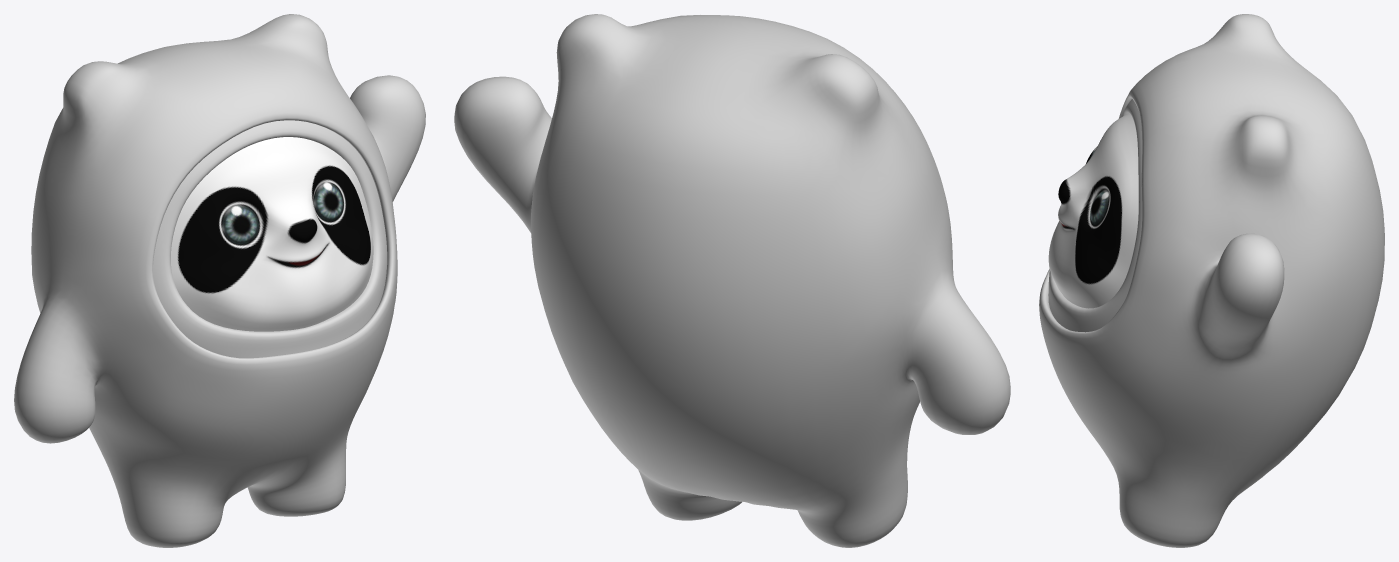
Rendered from bingdundun.glb.
3 renders of one model, left to right at view 1: azimuth 30°, elevation 25°; view 2: azimuth 150°, elevation 25°; view 3: azimuth 270°, elevation 25°, orthographic. The views are drawn at different scales.
Visible parts, largest first — view 1: oldtiger002, oldtiger001, oldtiger009; view 2: oldtiger002; view 3: oldtiger002, oldtiger001, oldtiger009.
Boxes of the visible parts, left/top/right/bottom form: oldtiger002: left=14, top=14, right=425, bottom=547; oldtiger001: left=171, top=137, right=373, bottom=331; oldtiger009: left=153, top=120, right=387, bottom=358; oldtiger002: left=454, top=14, right=1010, bottom=547; oldtiger002: left=1039, top=14, right=1384, bottom=547; oldtiger001: left=1048, top=113, right=1138, bottom=308; oldtiger009: left=1048, top=99, right=1142, bottom=332.
Bounding box in the file's own units: 0.3866 × 0.3856 × 0.2702.
2 materials, 1 textured.
